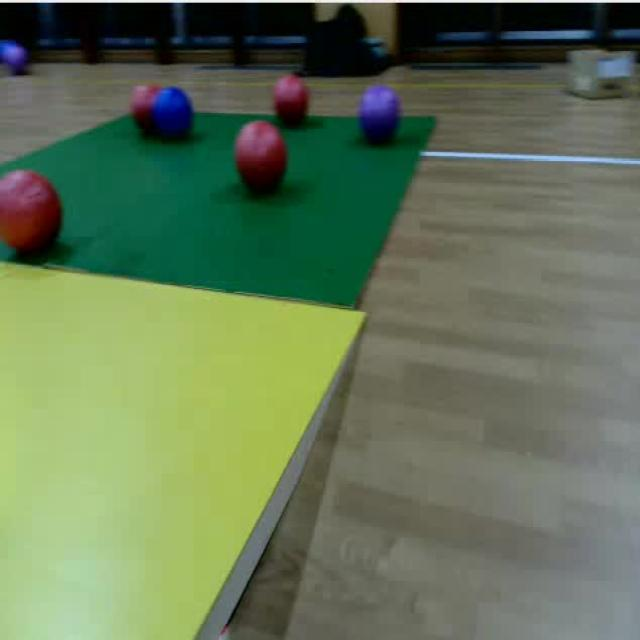blue_ball: (152, 84, 199, 143)
purple_ball: (356, 83, 402, 147), (6, 45, 29, 77)
red_ball: (0, 168, 66, 262), (232, 119, 290, 198), (272, 72, 310, 128), (129, 87, 151, 143)
